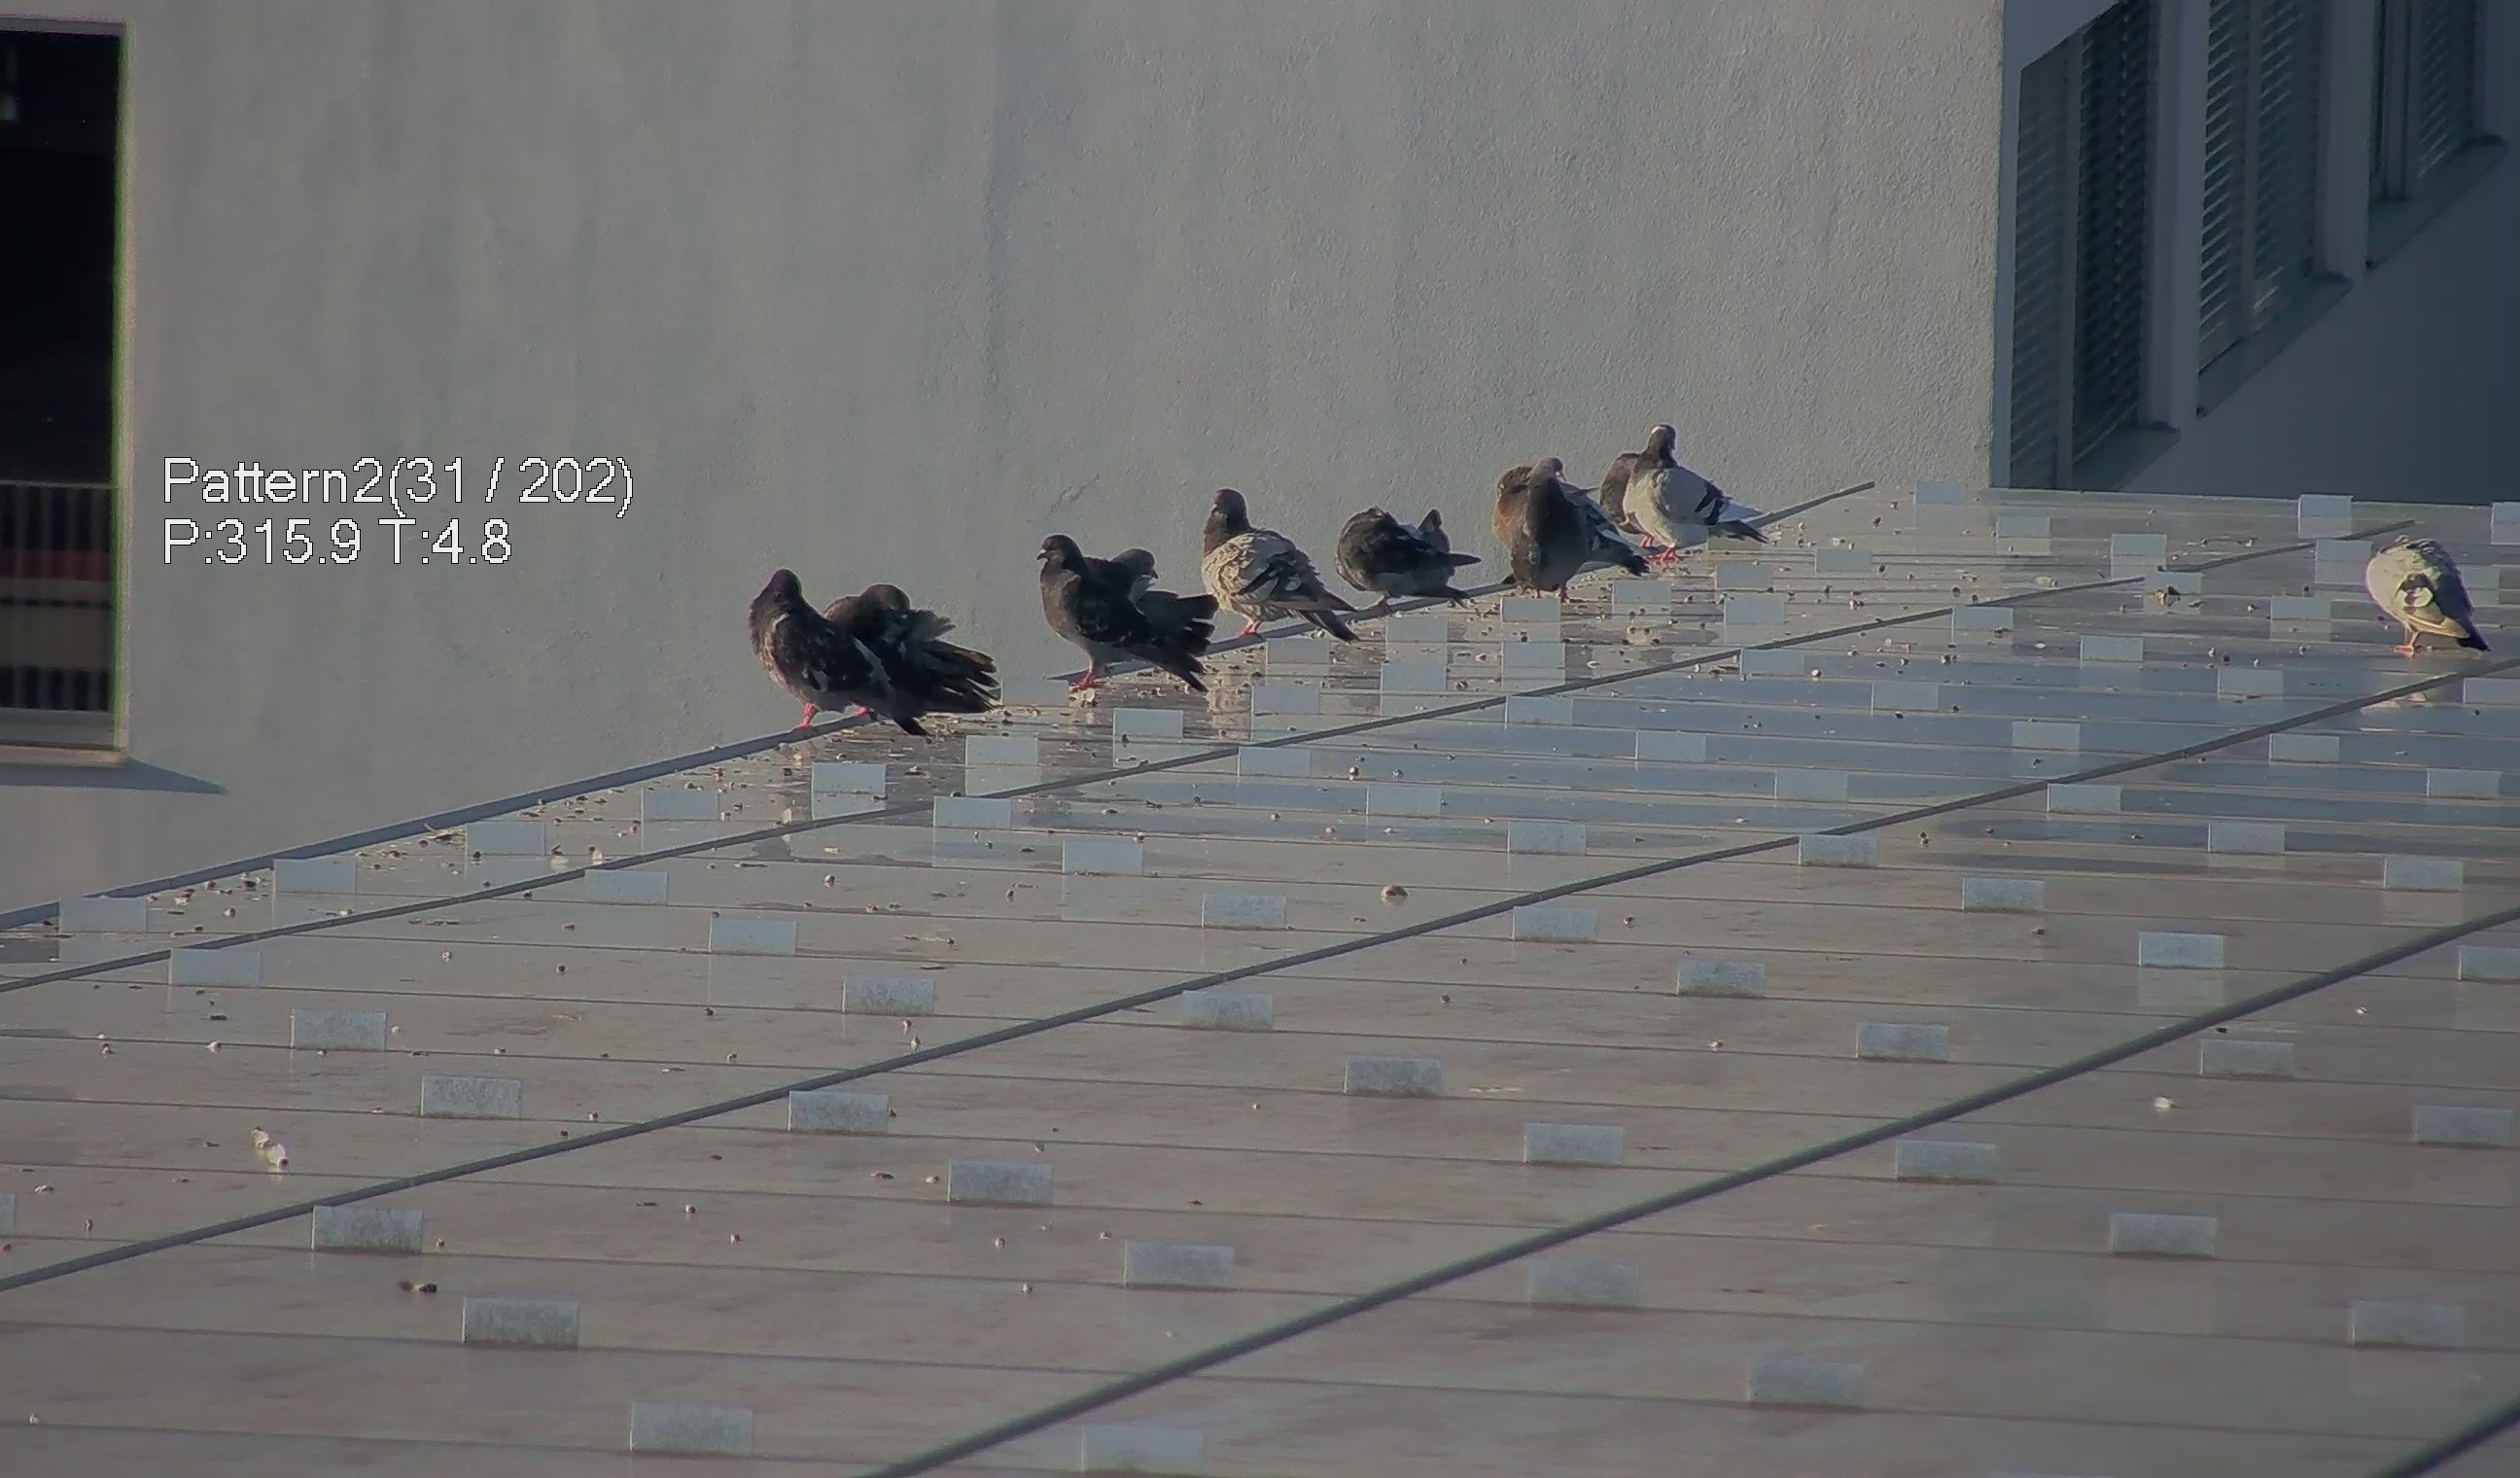Pigeon: (725, 560, 967, 744), (1027, 516, 1224, 690), (1192, 484, 1377, 653), (837, 577, 999, 744), (1486, 449, 1657, 595), (2367, 523, 2511, 667), (1604, 419, 1762, 544), (1331, 493, 1477, 600)
